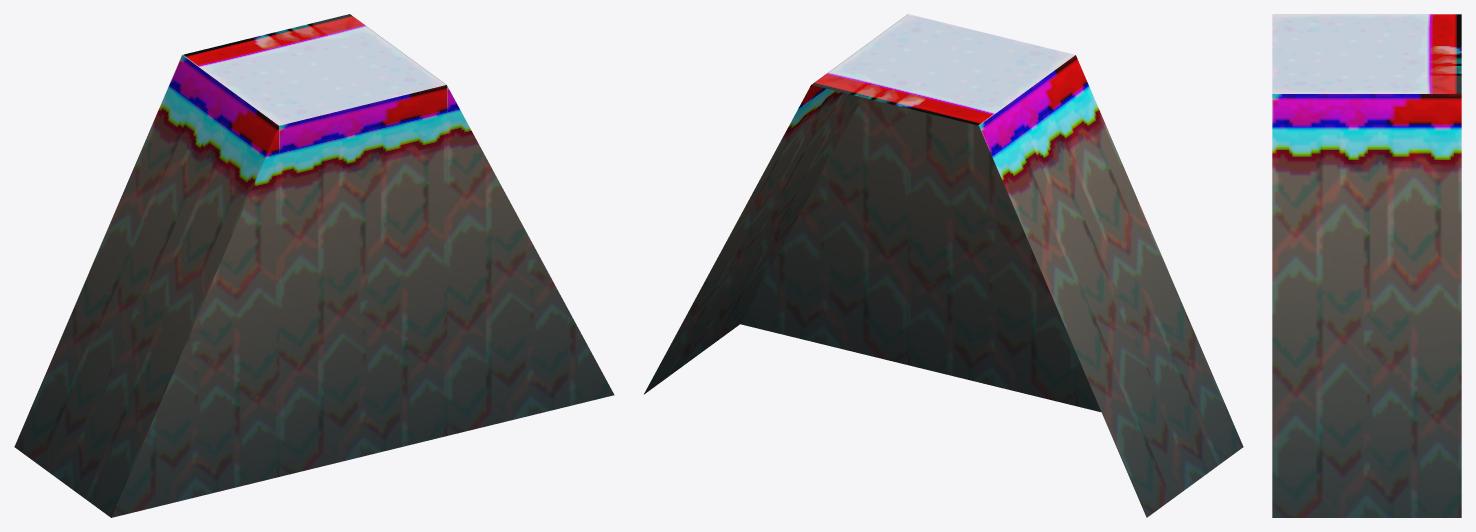
Rendered from arch_winter_wall_edgeAll.FBX.
The picture shows the model from 3 angles, left to right: view 1: azimuth 30°, elevation 25°; view 2: azimuth 150°, elevation 25°; view 3: azimuth 270°, elevation 25°; orthographic projection. The views are drawn at different scales.
Visible parts, largest first — view 1: arch_winter_wall_edgeAll; view 2: arch_winter_wall_edgeAll; view 3: arch_winter_wall_edgeAll.
Boxes of the visible parts, x1=… form: arch_winter_wall_edgeAll: x1=14, y1=14, x2=614, y2=517; arch_winter_wall_edgeAll: x1=644, y1=14, x2=1243, y2=517; arch_winter_wall_edgeAll: x1=1272, y1=14, x2=1461, y2=517.
Bounding box in the file's own units: 6 × 4 × 2.
Materials: 1 (1 with a texture image).
